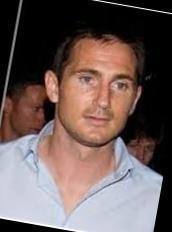Drunk: (66, 40, 131, 141)
